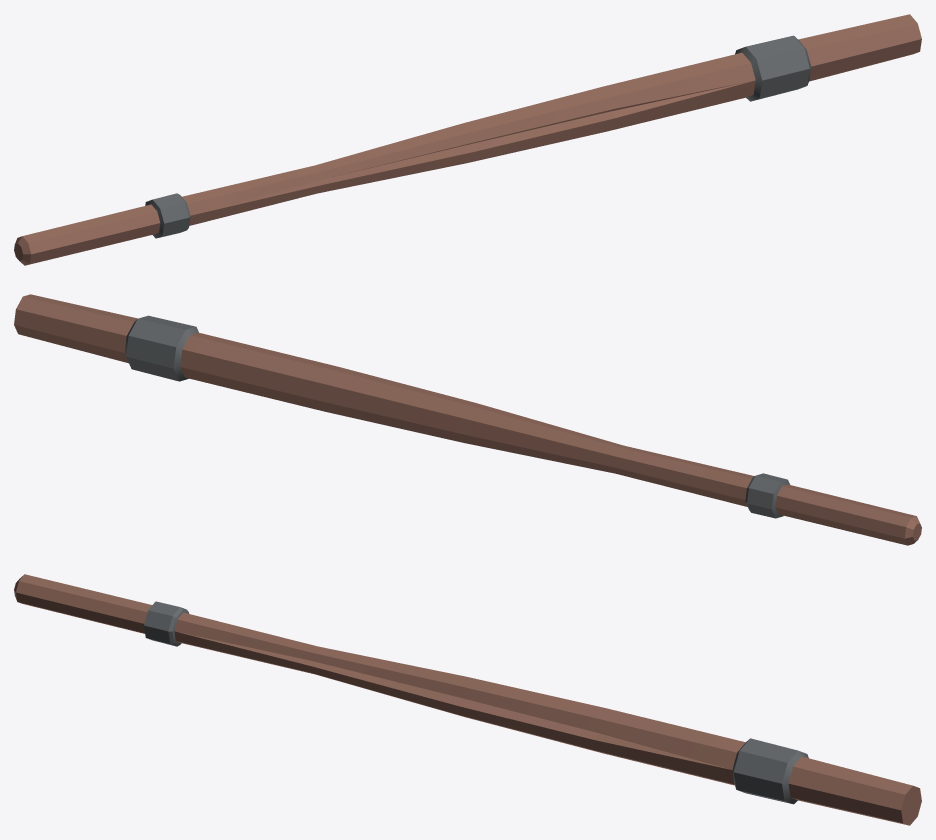
The model's file is SM_Spikes_05.fbx.
3 renders of one model, top to bottom at view 1: azimuth 30°, elevation 25°; view 2: azimuth 150°, elevation 25°; view 3: azimuth 330°, elevation 25°, orthographic.
Visible parts, largest first — view 1: Spikes_05; view 2: Spikes_05; view 3: Spikes_05.
Boxes of the visible parts, <box> form: Spikes_05: <box>14,14,921,265</box>; Spikes_05: <box>14,294,921,545</box>; Spikes_05: <box>14,574,921,825</box>.
Size of the model in its own units: 72.04 by 4 by 4.
